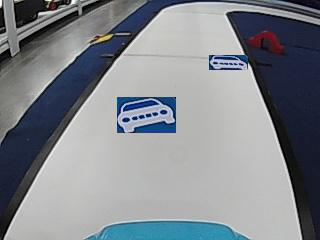bridge: (248, 29, 284, 53)
